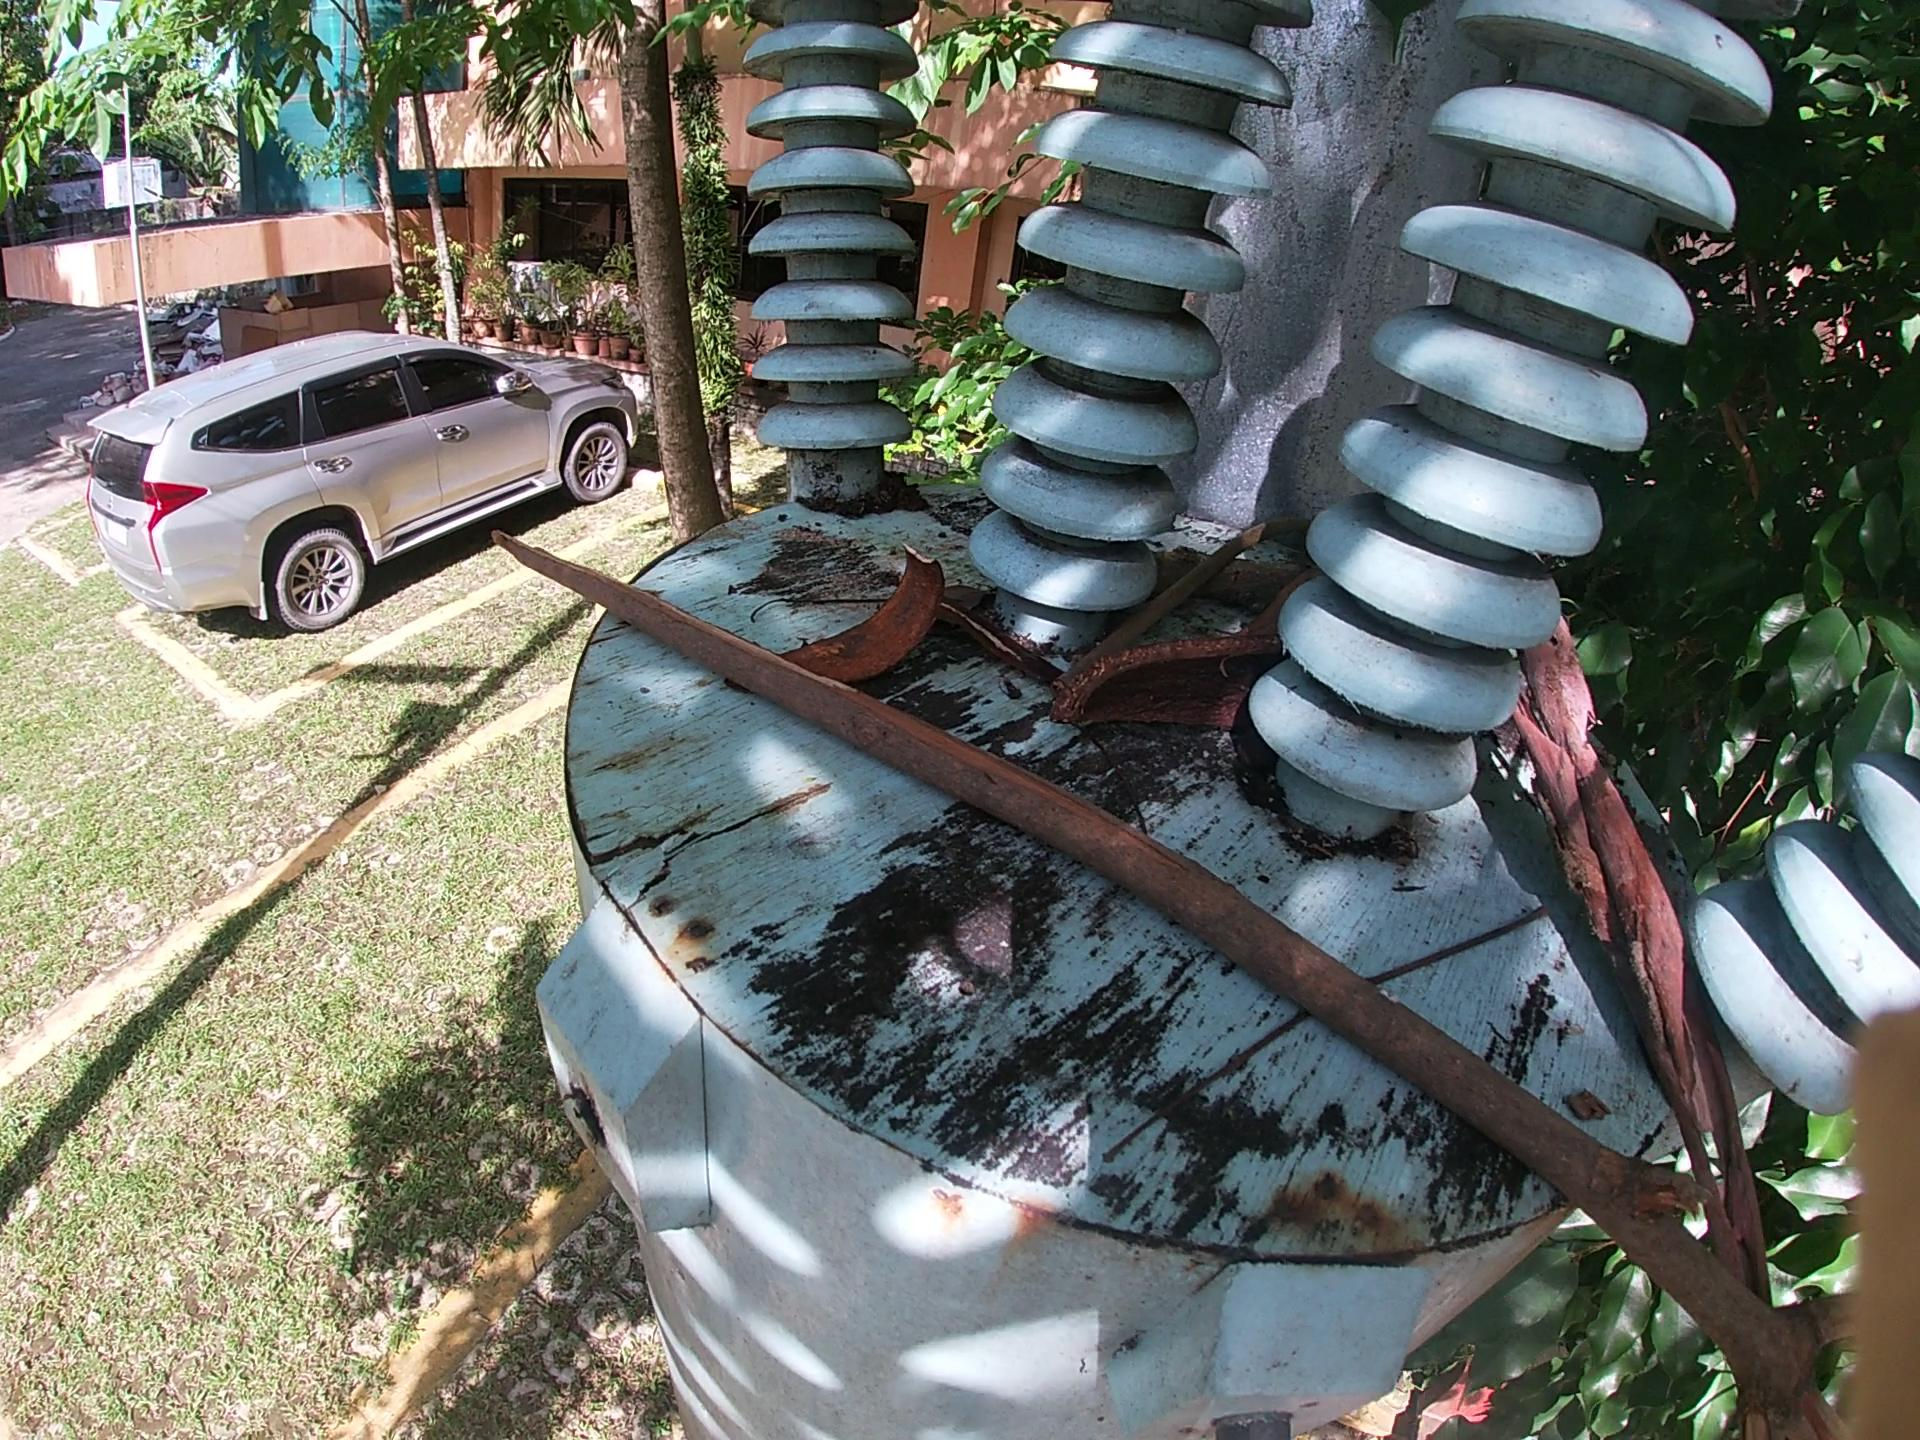leaf: (1234, 587, 1308, 644)
mahogany fruit: (1055, 640, 1300, 746), (777, 546, 949, 659)
tree branch: (490, 526, 1843, 1420), (1491, 563, 1822, 1393), (1093, 895, 1577, 1168), (1054, 513, 1274, 672), (1137, 558, 1336, 605), (945, 605, 1066, 678), (739, 579, 892, 614)
